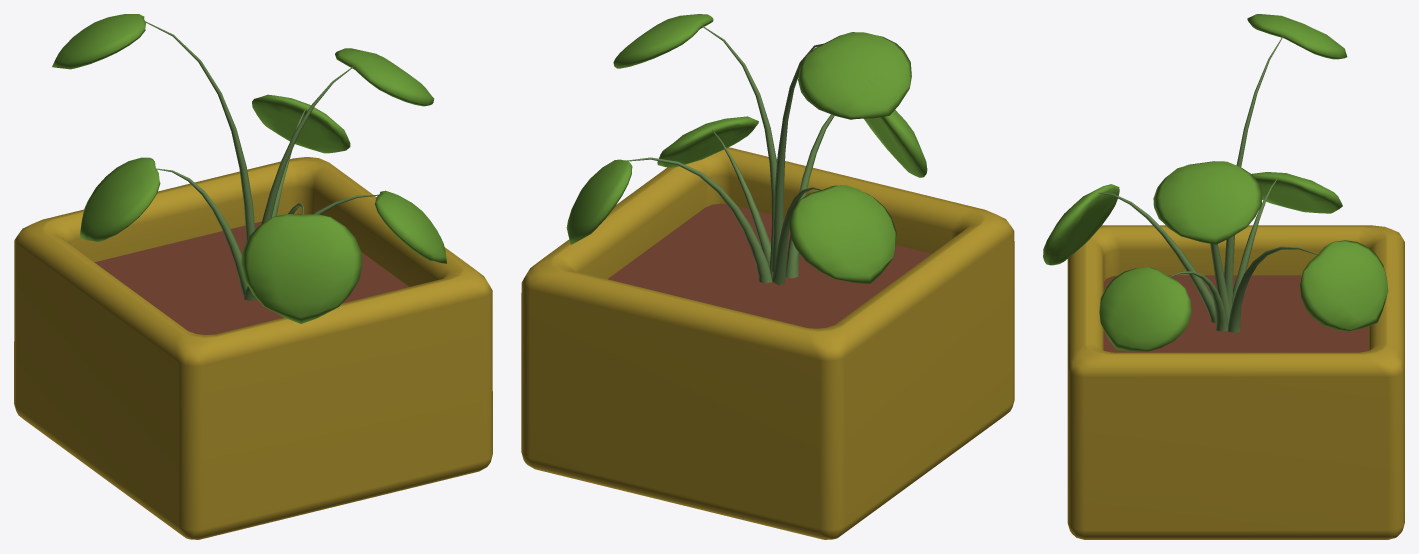
The model's file is Plant4.glb.
3 views of the same model, side by side, from view 1: azimuth 30°, elevation 25°; view 2: azimuth 150°, elevation 25°; view 3: azimuth 270°, elevation 25° (orthographic). The views are drawn at different scales.
Visible parts, largest first — view 1: Plant4; view 2: Plant4; view 3: Plant4.
Boxes of the visible parts, bbox=[...] form: Plant4: bbox=[14, 14, 492, 539]; Plant4: bbox=[521, 14, 1014, 539]; Plant4: bbox=[1043, 14, 1404, 539].
Bounding box in the file's own units: 0.308 × 0.3976 × 0.3218.
1 material, 1 textured.
